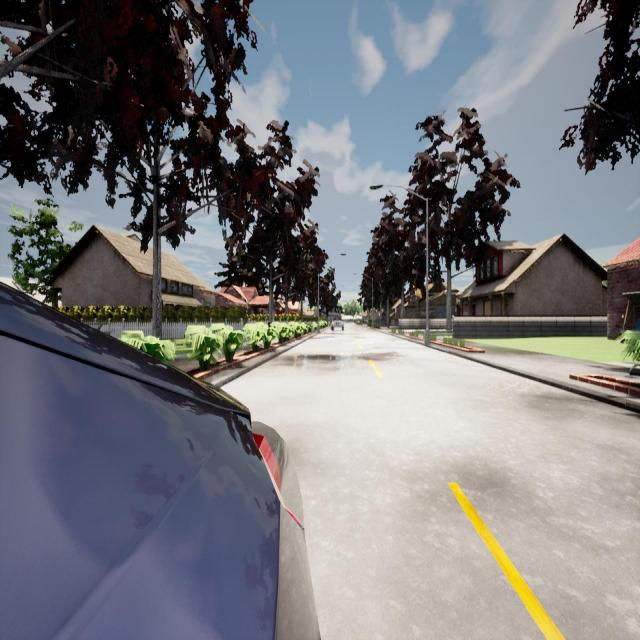Vehicle: (0, 284, 319, 638), (330, 314, 344, 332)
